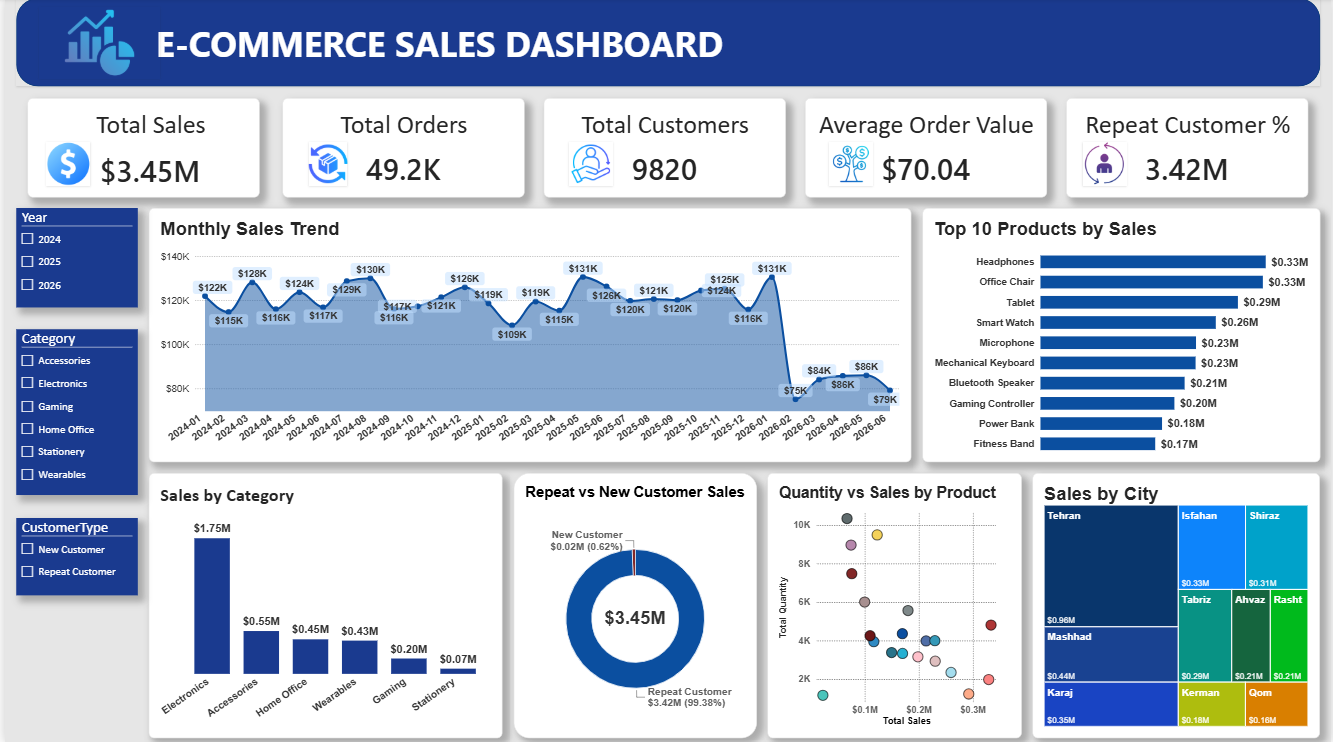

This screenshot's page, from the dashboard's own definition file:
{"tool":"powerbi","page":{"name":"Ecommerce Dashboard","canvas":[1920,1080],"ordinal":0},"visuals":[{"type":"card","title":"Total Sales","fields":{"Values":["E-Commerce_Sales_Cleaned.Total Sales"]},"box":[32,144,336,144],"z":0},{"type":"card","title":"Total Orders","fields":{"Values":["E-Commerce_Sales_Cleaned.Total Orders"]},"box":[402,144,350,144],"z":1000},{"type":"card","title":"Total Customers","fields":{"Values":["E-Commerce_Sales_Cleaned.Total Customers"]},"box":[780,144,350,144],"z":2000},{"type":"card","title":"Average Order Value","fields":{"Values":["E-Commerce_Sales_Cleaned.Average Order Value"]},"box":[1158,144,350,144],"z":3000},{"type":"card","title":"Repeat Customer %","fields":{"Values":["E-Commerce_Sales_Cleaned.Repeat Customer Sales"]},"box":[1536,144,350,144],"z":4000},{"type":"lineChart","title":"Monthly Sales Trend","fields":{"Category":["E-Commerce_Sales_Cleaned.YearMonth"],"Y":["E-Commerce_Sales_Cleaned.Total Sales"]},"box":[208,304,1104,368],"z":5000},{"type":"columnChart","title":"Sales by Category","fields":{"Category":["E-Commerce_Sales_Cleaned.Category"],"Y":["E-Commerce_Sales_Cleaned.Total Sales"]},"box":[208,688,512,384],"z":6000},{"type":"barChart","title":"Top 10 Products by Sales","fields":{"Category":["E-Commerce_Sales_Cleaned.ProductName"],"Y":["E-Commerce_Sales_Cleaned.Total Sales"]},"box":[1328,304,576,368],"z":7000},{"type":"donutChart","title":"Repeat vs New Customer Sales","fields":{"Category":["E-Commerce_Sales_Cleaned.CustomerType"],"Y":["E-Commerce_Sales_Cleaned.Total Sales"]},"box":[736,688,352,384],"z":8000},{"type":"scatterChart","title":"Quantity vs Sales by Product","fields":{"Category":["E-Commerce_Sales_Cleaned.ProductName"],"X":["E-Commerce_Sales_Cleaned.Total Sales"],"Y":["E-Commerce_Sales_Cleaned.Total Quantity"]},"box":[1104,688,368,384],"z":9000},{"type":"treemap","title":"Sales by City","fields":{"Group":["E-Commerce_Sales_Cleaned.City"],"Values":["E-Commerce_Sales_Cleaned.Total Sales"]},"box":[1488,688,416,384],"z":10000},{"type":"slicer","title":"Year","fields":{"Values":["E-Commerce_Sales_Cleaned.Year"]},"box":[16,304,176,144],"z":11000},{"type":"slicer","fields":{"Values":["E-Commerce_Sales_Cleaned.Category"]},"box":[16,480,176,240],"z":12000},{"type":"slicer","fields":{"Values":["E-Commerce_Sales_Cleaned.CustomerType"]},"box":[16,752,176,112],"z":13000},{"type":"shape","title":" E-COMMERCE SALES DASHBOARD","box":[16,0,1888,128],"z":14000},{"type":"image","box":[48,12,176,104],"z":15000},{"type":"image","box":[60,208,64,64],"z":16000},{"type":"image","box":[440,208,56,64],"z":17000},{"type":"image","box":[816,208,64,64],"z":18000},{"type":"image","box":[1192,208,64,64],"z":19000},{"type":"image","box":[1560,208,64,64],"z":20000}]}

Visuals, with their boxes in screenshot pixels (x1, y1, x2, y2), scaled from the page's 1920x1080 canvas onto the 1333x742 screenshot:
"Total Sales" card: {"left": 22, "top": 99, "right": 255, "bottom": 198}
"Total Orders" card: {"left": 279, "top": 99, "right": 522, "bottom": 198}
"Total Customers" card: {"left": 542, "top": 99, "right": 785, "bottom": 198}
"Average Order Value" card: {"left": 804, "top": 99, "right": 1047, "bottom": 198}
"Repeat Customer %" card: {"left": 1066, "top": 99, "right": 1309, "bottom": 198}
"Monthly Sales Trend" lineChart: {"left": 144, "top": 209, "right": 911, "bottom": 462}
"Sales by Category" columnChart: {"left": 144, "top": 473, "right": 500, "bottom": 737}
"Top 10 Products by Sales" barChart: {"left": 922, "top": 209, "right": 1322, "bottom": 462}
"Repeat vs New Customer Sales" donutChart: {"left": 511, "top": 473, "right": 755, "bottom": 737}
"Quantity vs Sales by Product" scatterChart: {"left": 766, "top": 473, "right": 1022, "bottom": 737}
"Sales by City" treemap: {"left": 1033, "top": 473, "right": 1322, "bottom": 737}
"Year" slicer: {"left": 11, "top": 209, "right": 133, "bottom": 308}
slicer - E-Commerce_Sales_Cleaned.Category: {"left": 11, "top": 330, "right": 133, "bottom": 495}
slicer - E-Commerce_Sales_Cleaned.CustomerType: {"left": 11, "top": 517, "right": 133, "bottom": 594}
" E-COMMERCE SALES DASHBOARD" shape: {"left": 11, "top": 0, "right": 1322, "bottom": 88}
image: {"left": 33, "top": 8, "right": 156, "bottom": 80}
image: {"left": 42, "top": 143, "right": 86, "bottom": 187}
image: {"left": 305, "top": 143, "right": 344, "bottom": 187}
image: {"left": 567, "top": 143, "right": 611, "bottom": 187}
image: {"left": 828, "top": 143, "right": 872, "bottom": 187}
image: {"left": 1083, "top": 143, "right": 1127, "bottom": 187}
